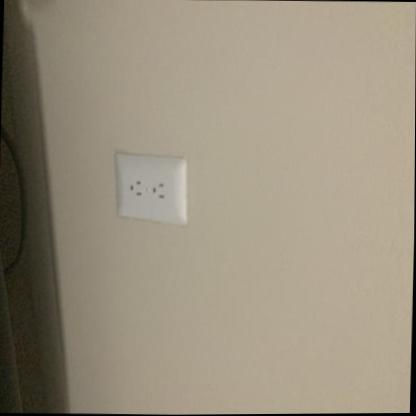OUTLET: (116, 150, 188, 225)
